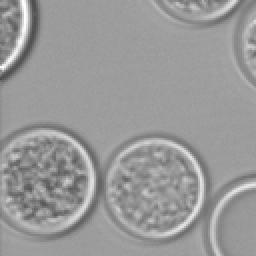picoshell: (100, 132, 208, 243), (0, 126, 96, 240), (202, 172, 256, 256), (150, 0, 240, 26), (232, 0, 256, 90)
